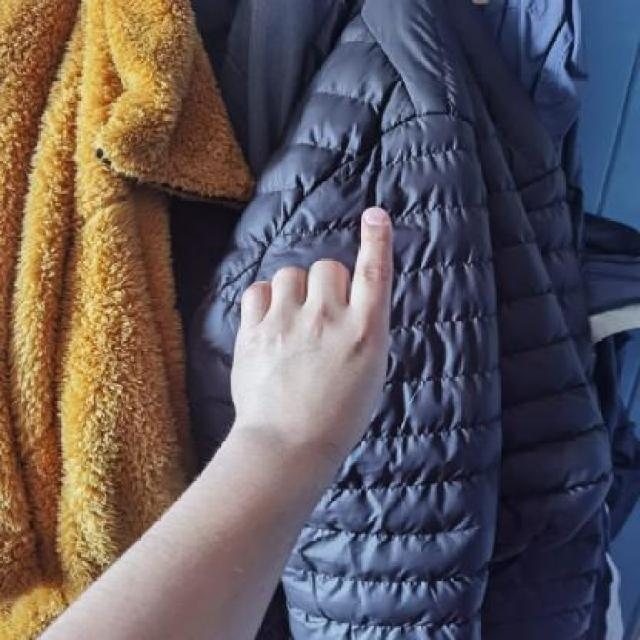T: (220, 198, 434, 462)
